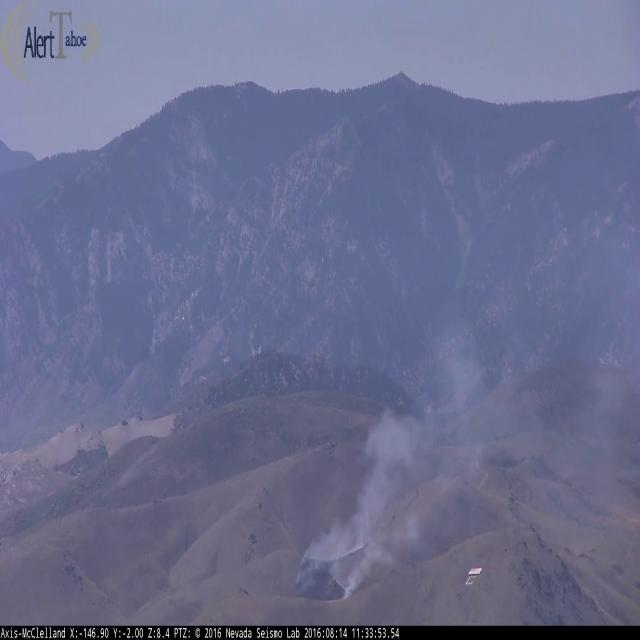smoke: (301, 303, 527, 588), (498, 255, 640, 504)
